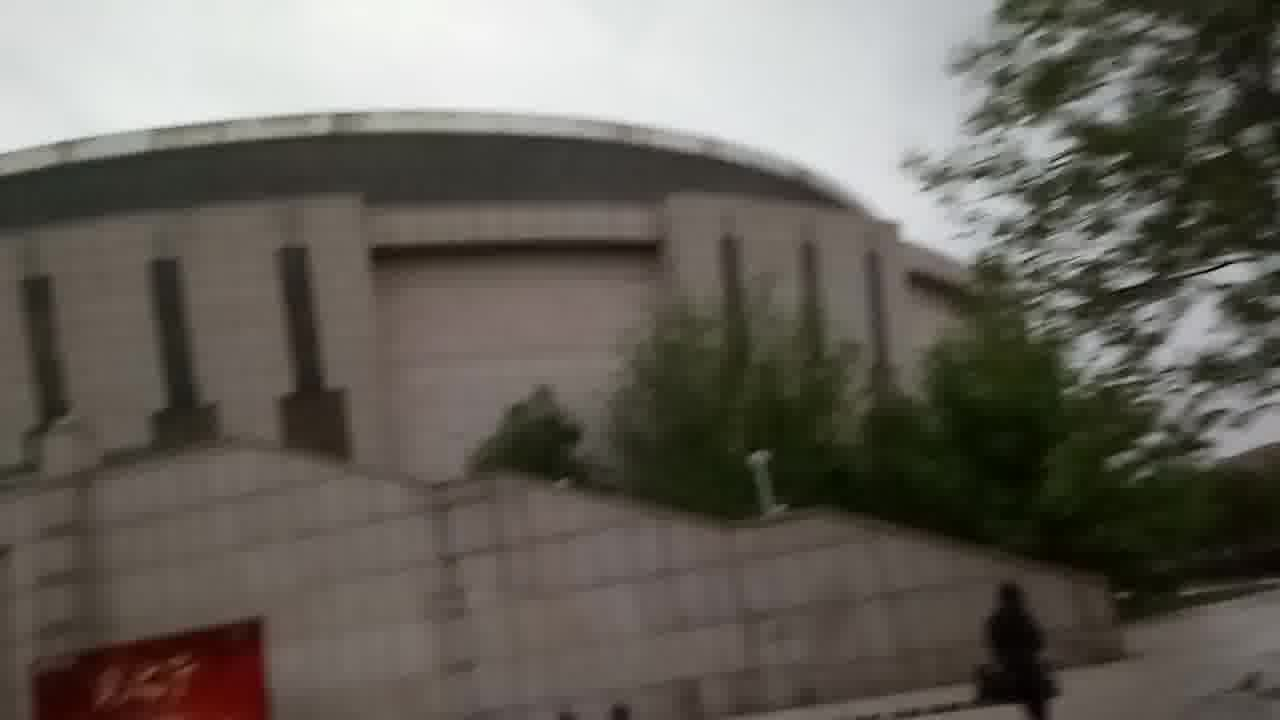zhongtiww: (3, 104, 1121, 720)
